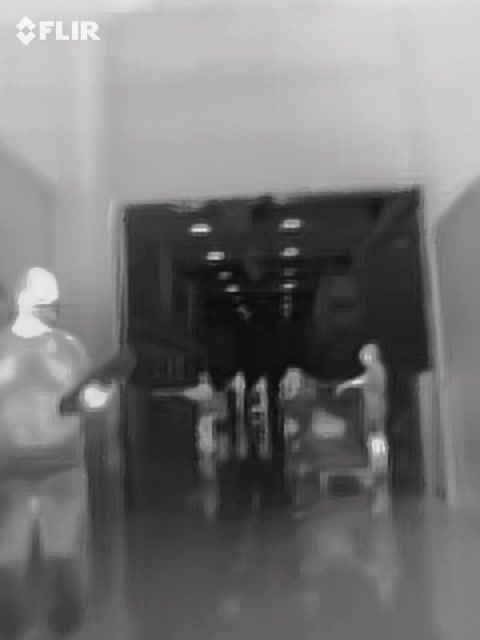head: (7, 262, 60, 331)
